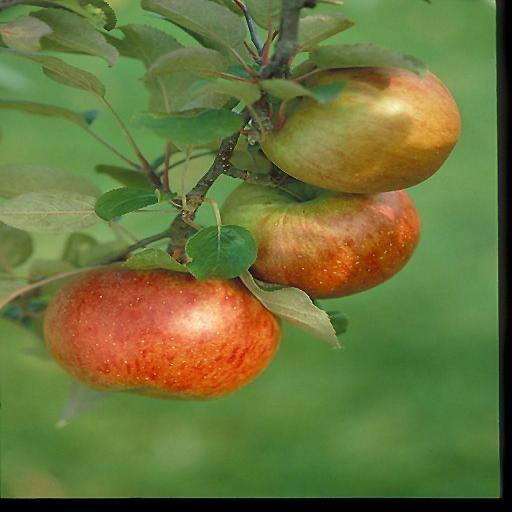apple: (44, 266, 279, 399), (262, 67, 459, 193), (222, 183, 419, 298)
